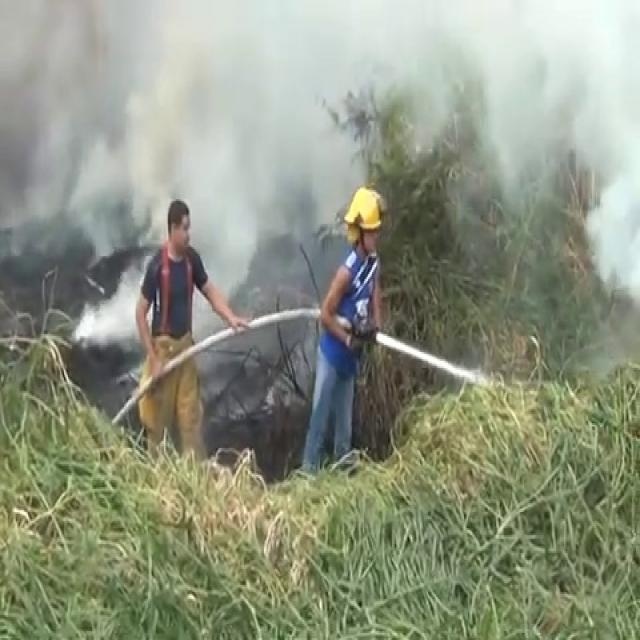Smoke: (0, 0, 640, 274)
